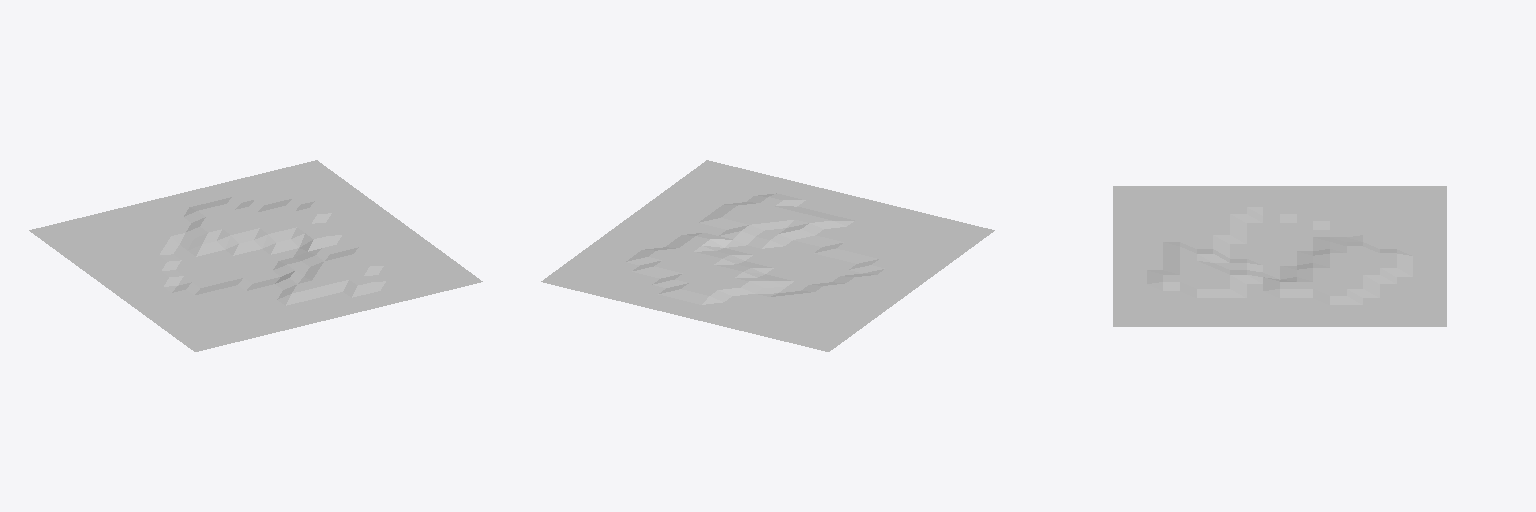
Rendered from graveyard.obj.
3 views of the same model, side by side, from view 1: azimuth 30°, elevation 25°; view 2: azimuth 150°, elevation 25°; view 3: azimuth 270°, elevation 25° (orthographic).
Parts seen in each view (by area): view 1: Grid; view 2: Grid; view 3: Grid.
Part boxes in pixels (bbox=[...]): Grid: bbox=[29, 160, 482, 351]; Grid: bbox=[541, 160, 994, 351]; Grid: bbox=[1113, 186, 1446, 326].
Size of the model in its own units: 50 by 0.8328 by 50.